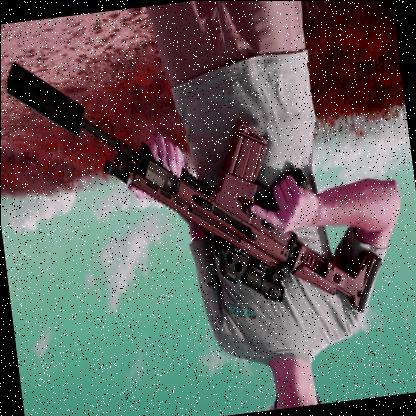rifle: (7, 18, 387, 365)
